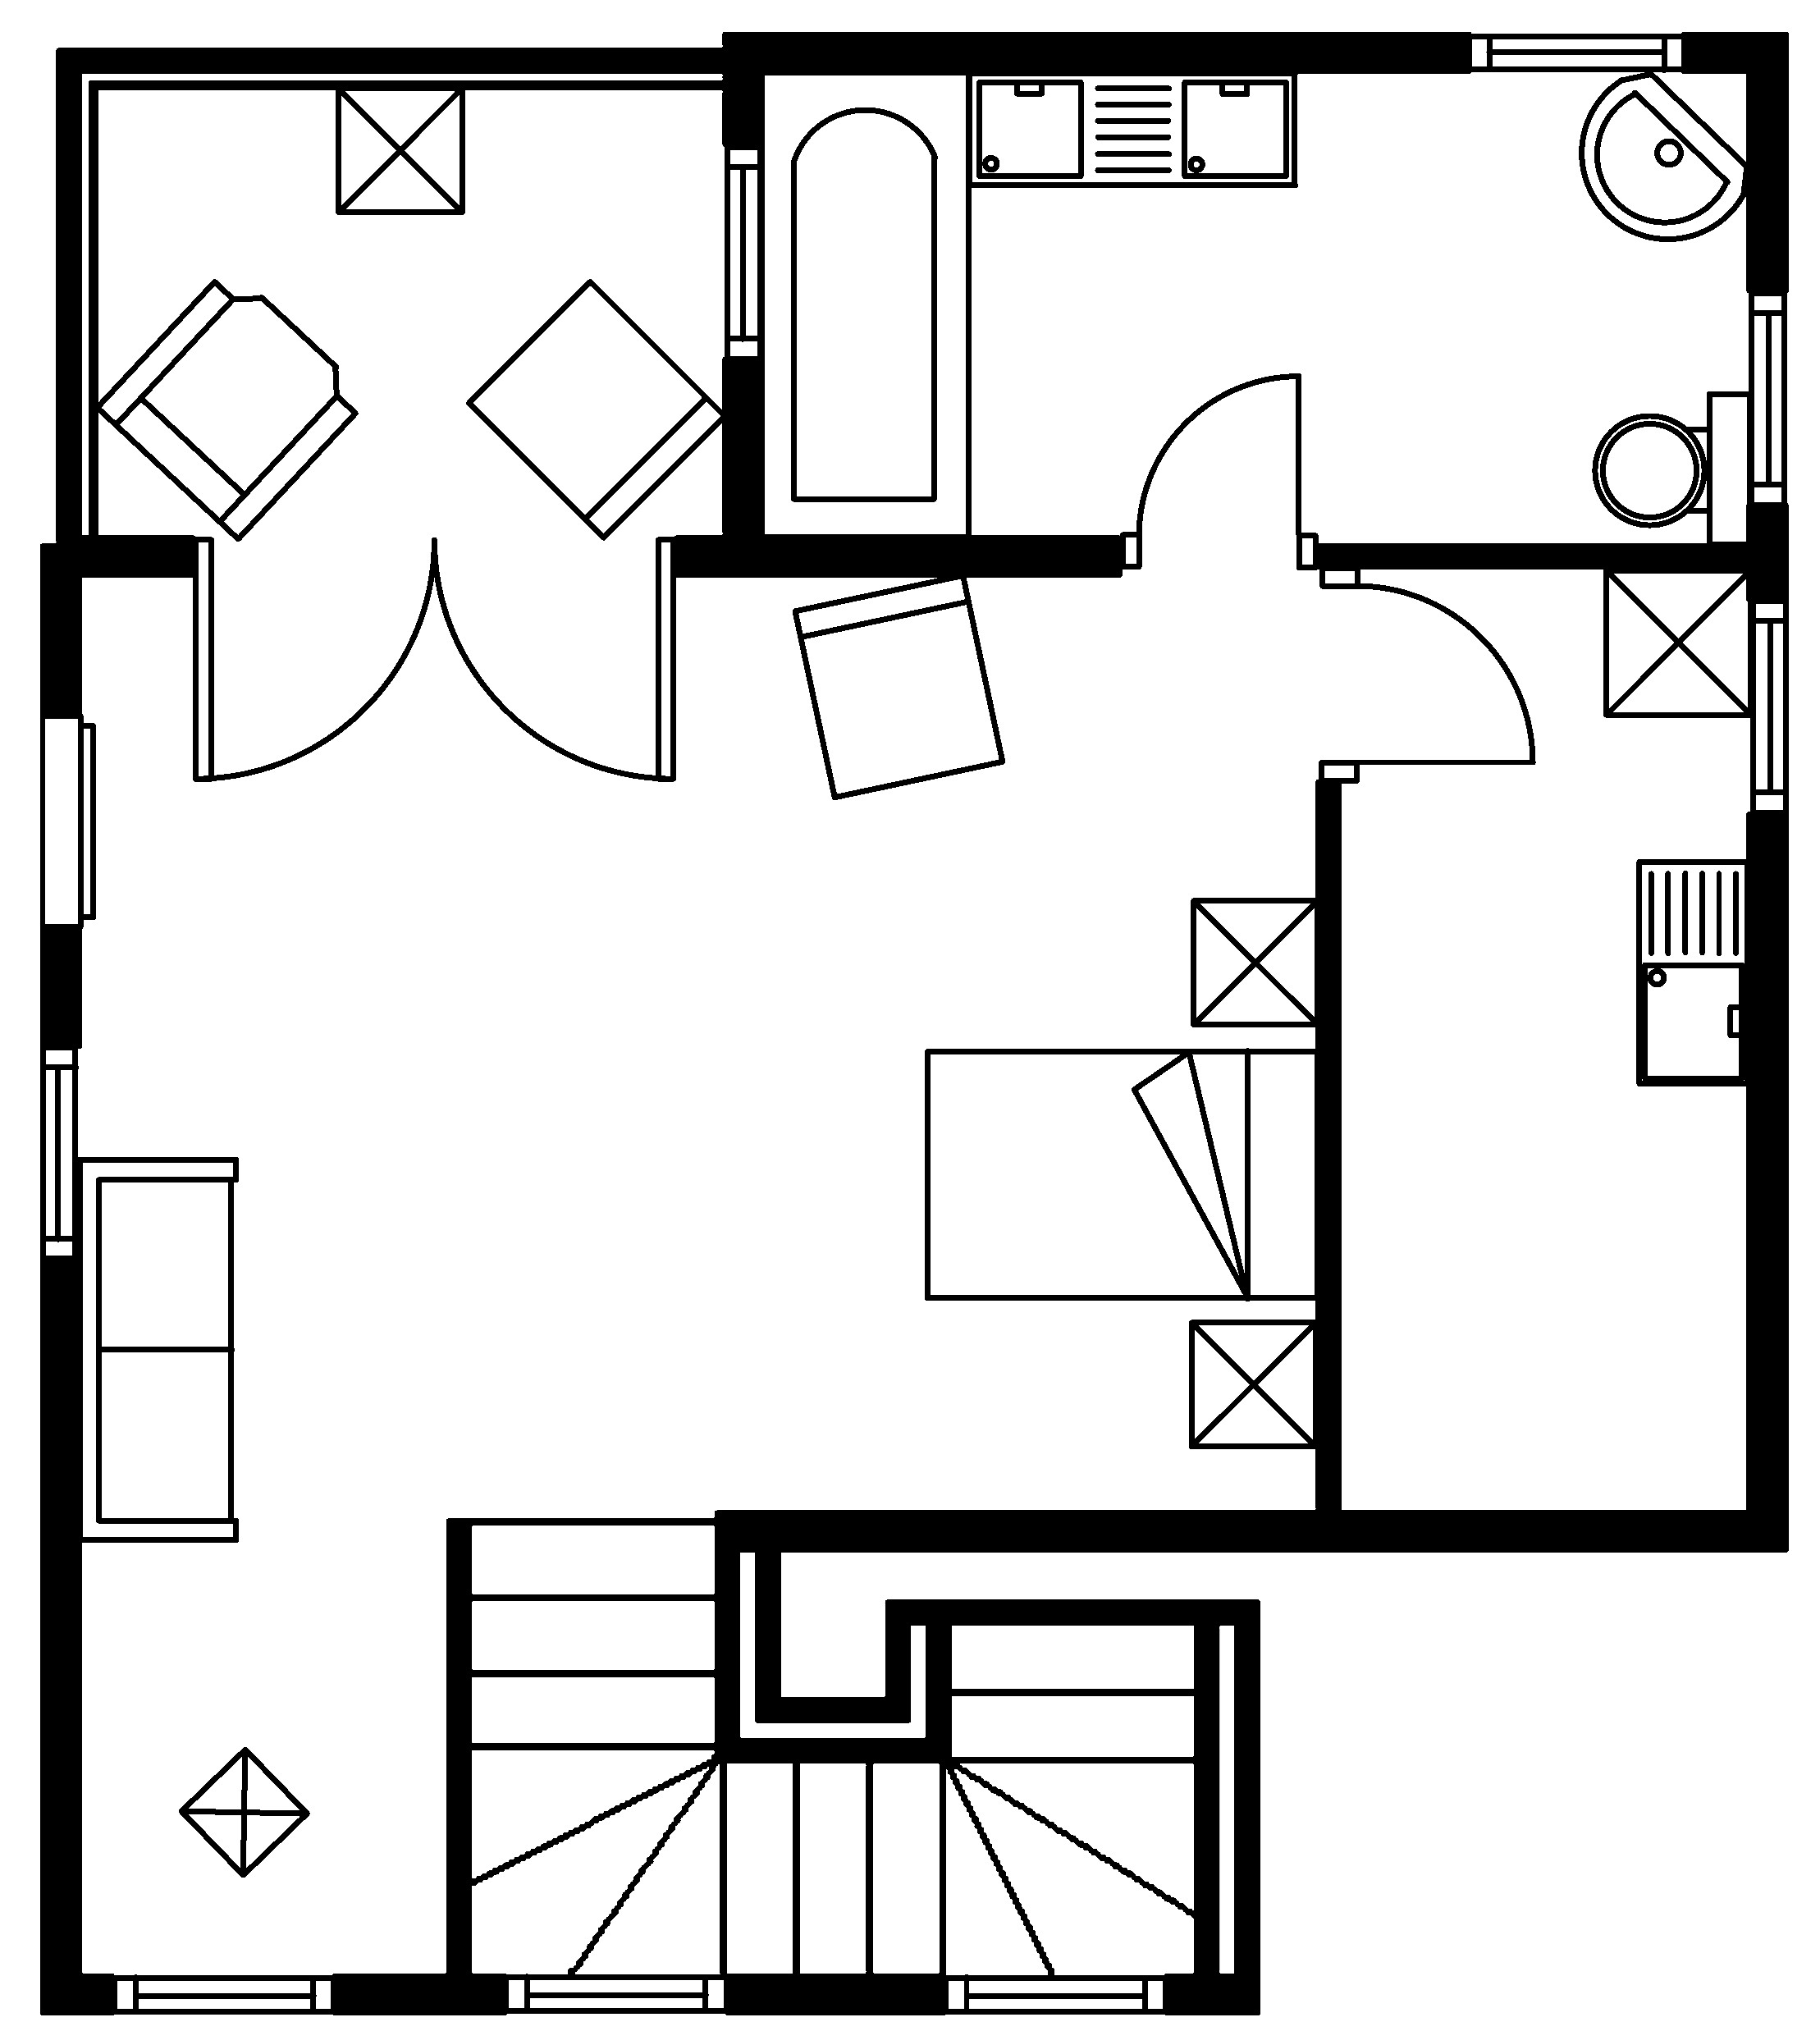armchair: (93, 278, 358, 543)
bed: (922, 1047, 1321, 1302)
coffee_table: (1602, 566, 1753, 719), (176, 1745, 311, 1878), (1186, 1318, 1319, 1449), (1189, 896, 1321, 1028), (334, 84, 466, 214)
large_sink: (1592, 388, 1753, 548)
large_sofa: (76, 1154, 239, 1543)
sink: (1634, 857, 1750, 1086)
small_sink: (1578, 70, 1750, 241)
small_sofa: (464, 278, 727, 541), (791, 571, 1005, 799)
tub: (757, 69, 971, 539)
twin_sink: (964, 69, 1298, 188)
